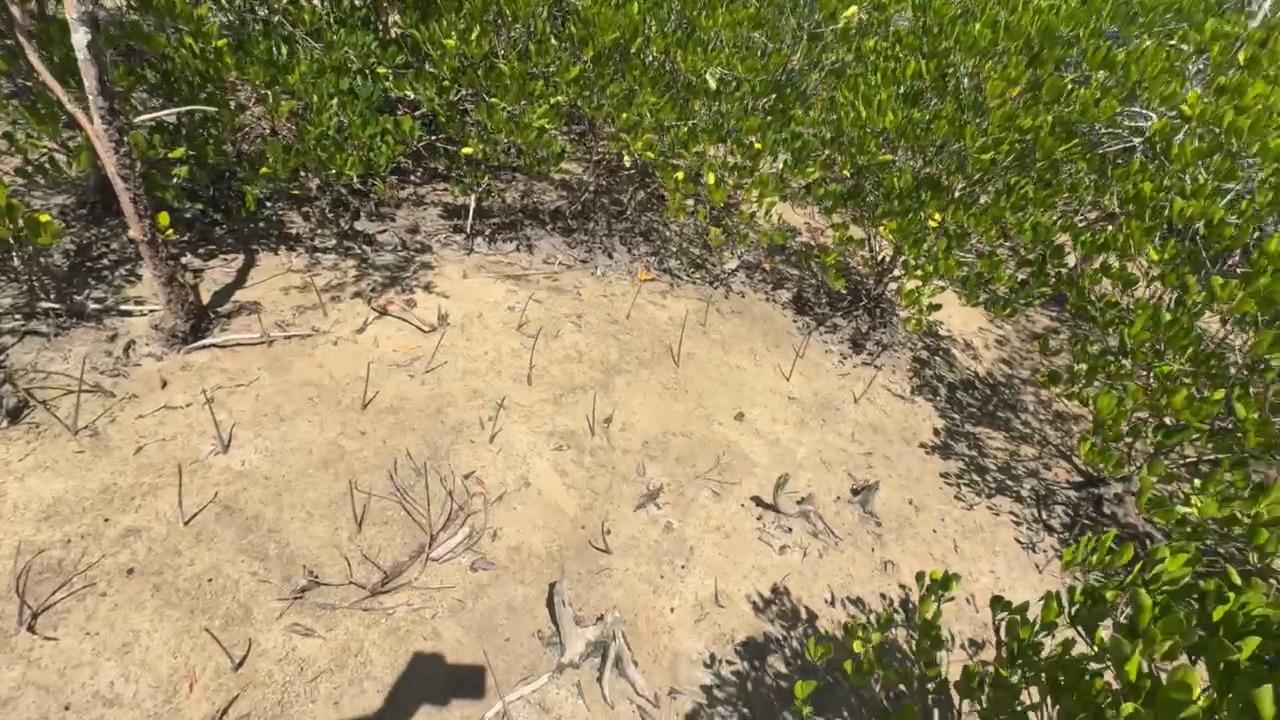Tree: (479, 647, 512, 720), (200, 386, 228, 454), (69, 355, 89, 434), (201, 626, 238, 667), (782, 328, 810, 380), (850, 363, 885, 404), (671, 307, 690, 368), (15, 566, 33, 630), (423, 328, 448, 374), (526, 324, 544, 387), (489, 394, 508, 444), (346, 478, 363, 533), (309, 273, 329, 318), (356, 359, 372, 412), (516, 291, 536, 330), (790, 327, 814, 359), (625, 282, 644, 320), (176, 463, 187, 527), (254, 308, 271, 347), (599, 519, 616, 555), (1035, 549, 1059, 574), (699, 291, 714, 329), (587, 391, 598, 436)
